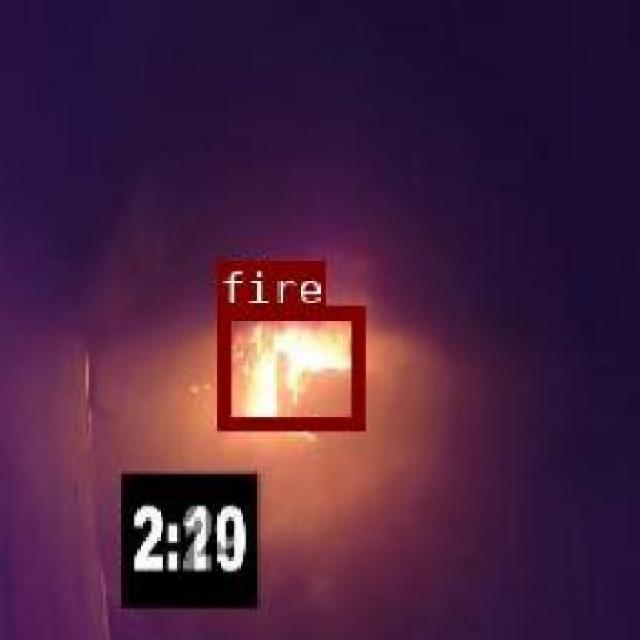Fire: (216, 303, 362, 428)
